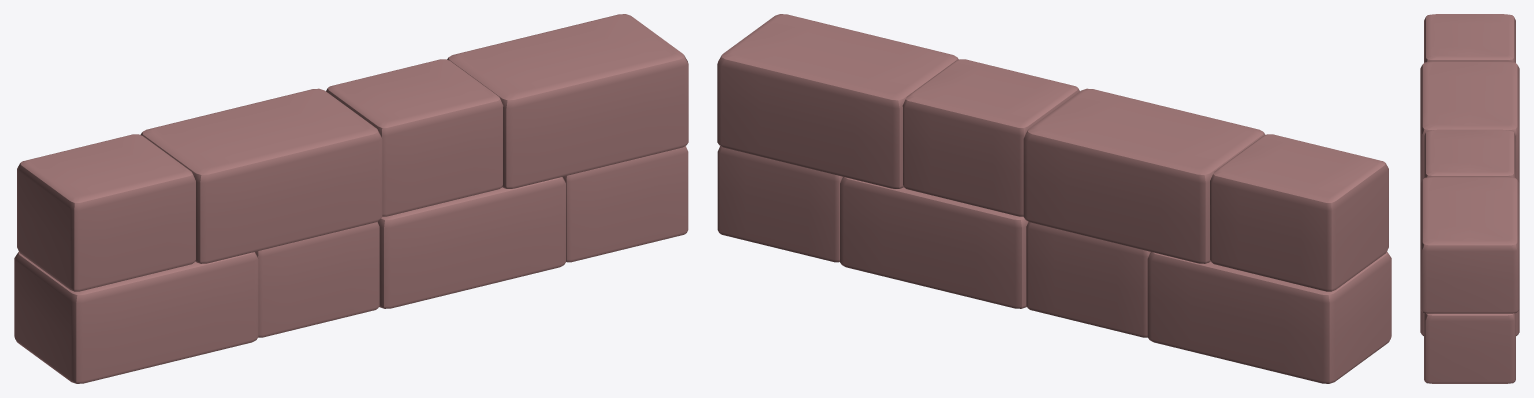
Rendered from BrickWall.fbx.
3 renders of one model, left to right at view 1: azimuth 30°, elevation 25°; view 2: azimuth 150°, elevation 25°; view 3: azimuth 270°, elevation 25°, orthographic. The views are drawn at different scales.
Parts seen in each view (by area): view 1: Wall; view 2: Wall; view 3: Wall.
Boxes of the visible parts, x1,y1,x2,y2 form: Wall: (14, 14, 688, 383); Wall: (717, 14, 1391, 383); Wall: (1420, 14, 1519, 383).
Bounding box in the file's own units: 5.67 × 1.6 × 1.02.
